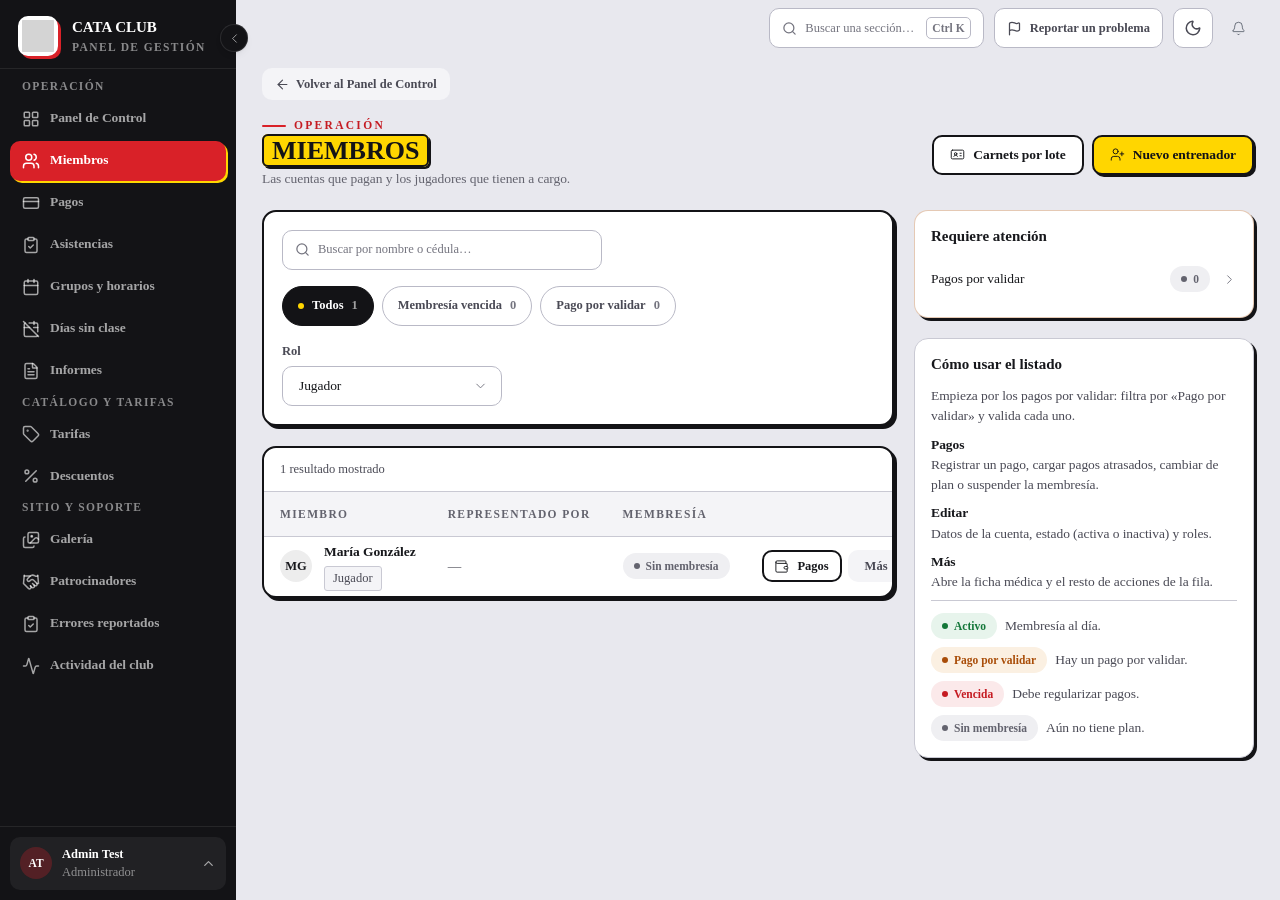
MembersPage — Editar member modal › gives the Editar dialog the same definite-height shell/body chain as Ficha médica and Pagos
The image size is (1280, 900).
Click the button with aria-label "más acciones para" at (888, 566), box [848,550,928,582]
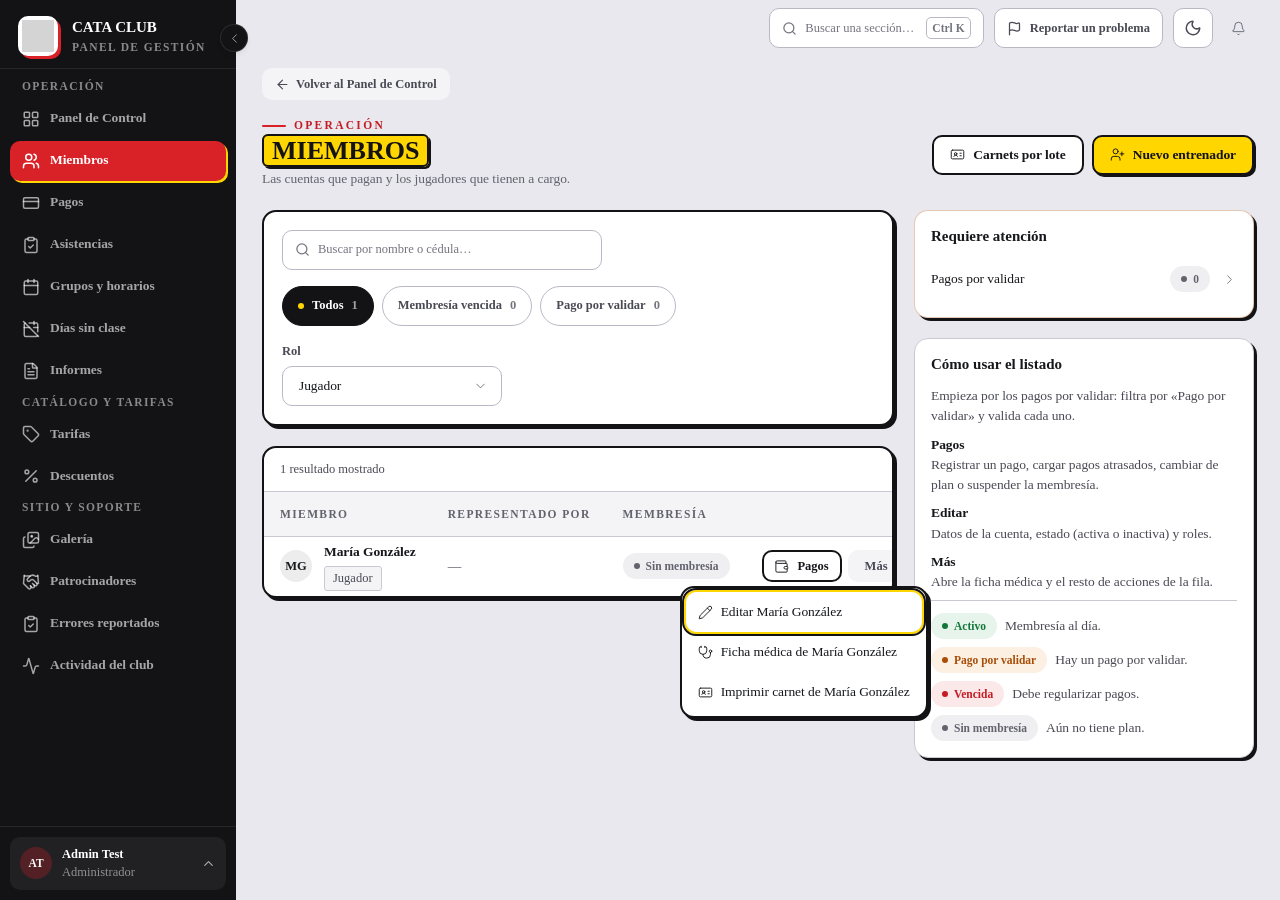
Click the menu item "Editar María González" at (804, 612), box [686,592,922,632]
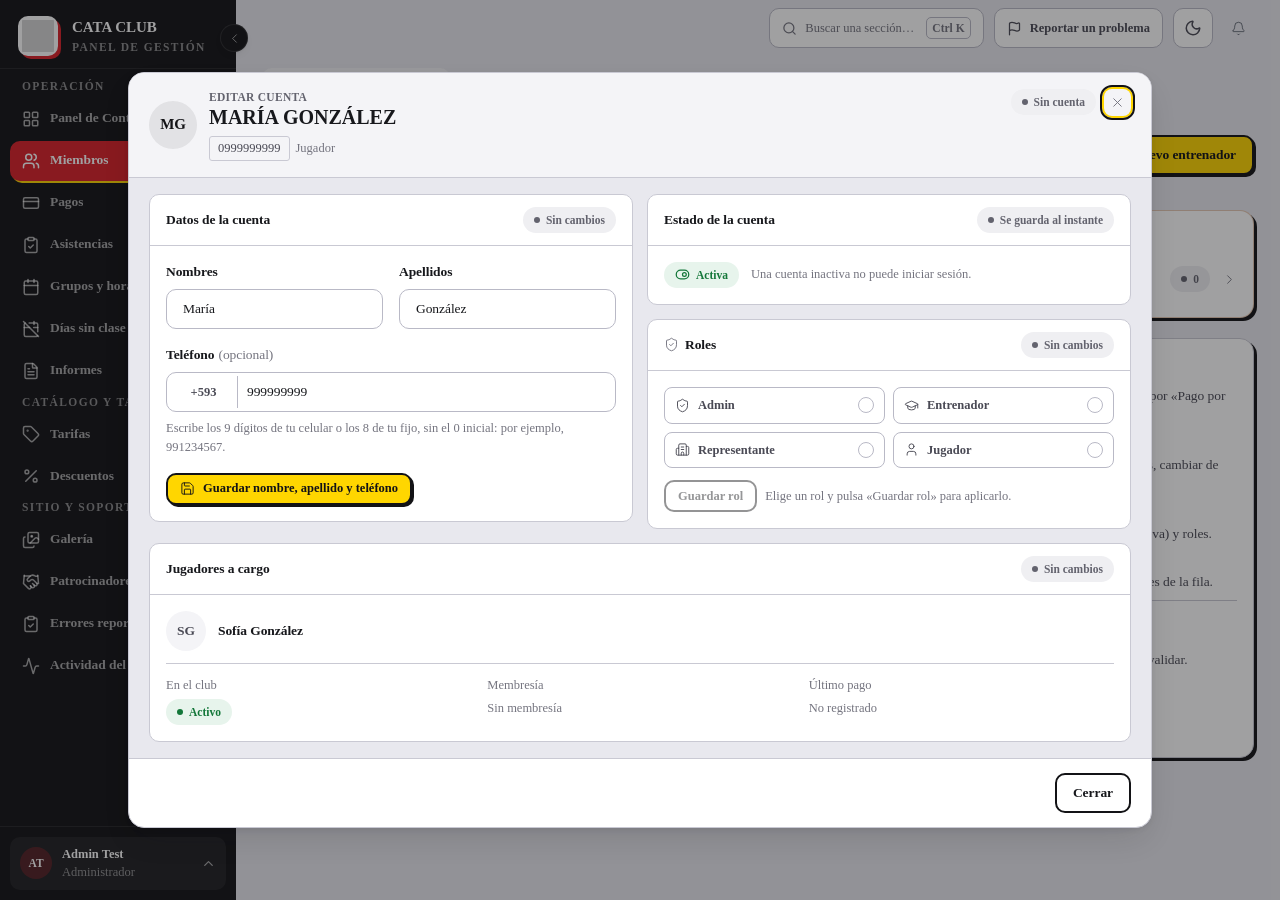
Now the radio button labelled "Admin" is enabled, box [664,387,885,424]
